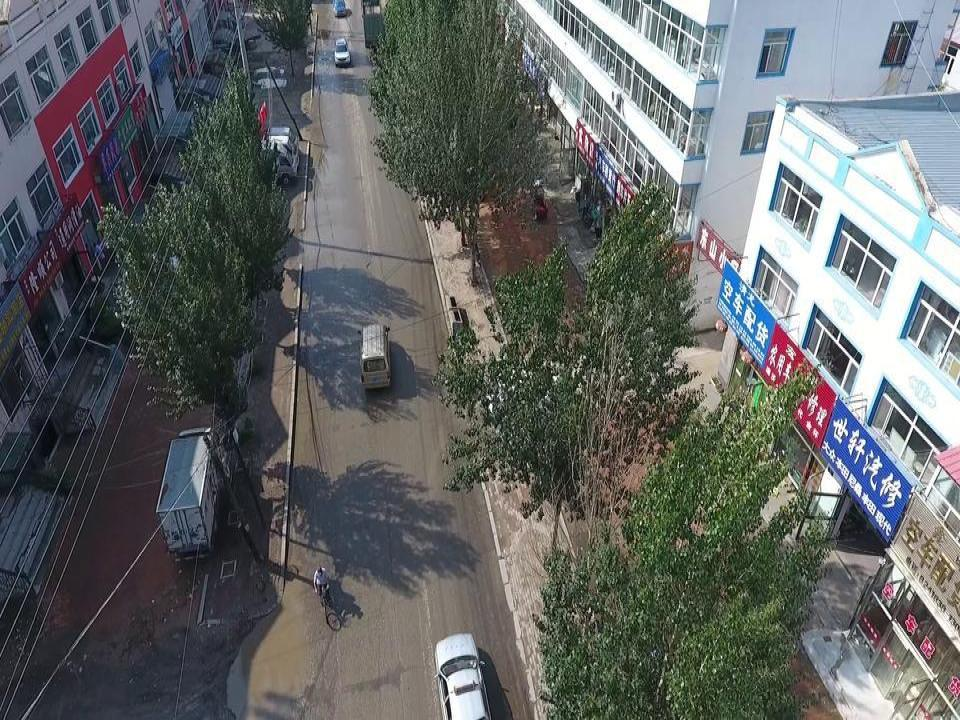car: (434, 630, 491, 720), (333, 39, 350, 65), (333, 0, 347, 19)
truck: (155, 425, 224, 560), (237, 143, 297, 185), (229, 136, 295, 171), (237, 125, 298, 159), (359, 0, 384, 48)
van: (357, 324, 390, 388)
